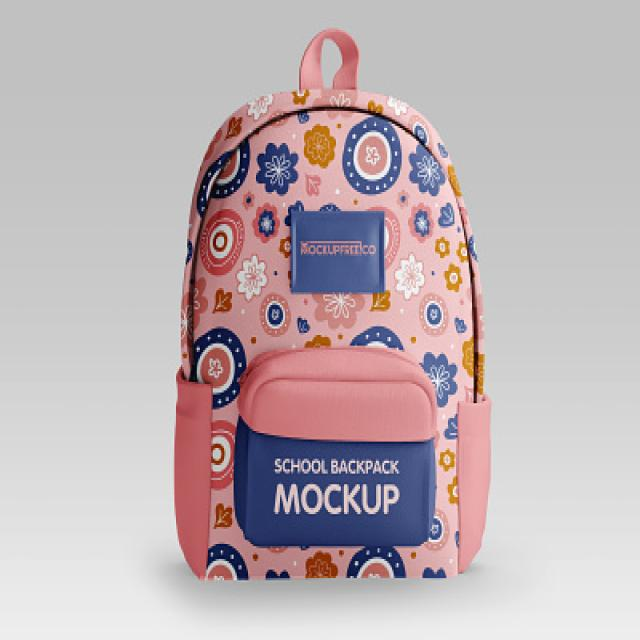backpack: (174, 27, 492, 581)
